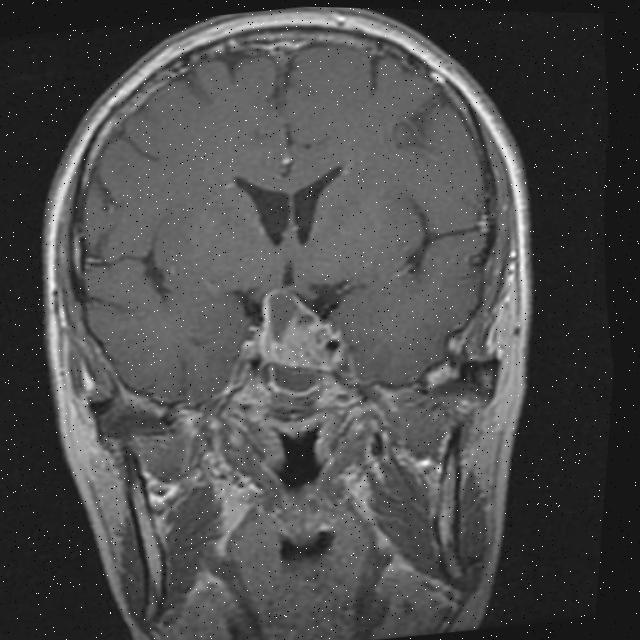Pituitary: (249, 280, 341, 378)
